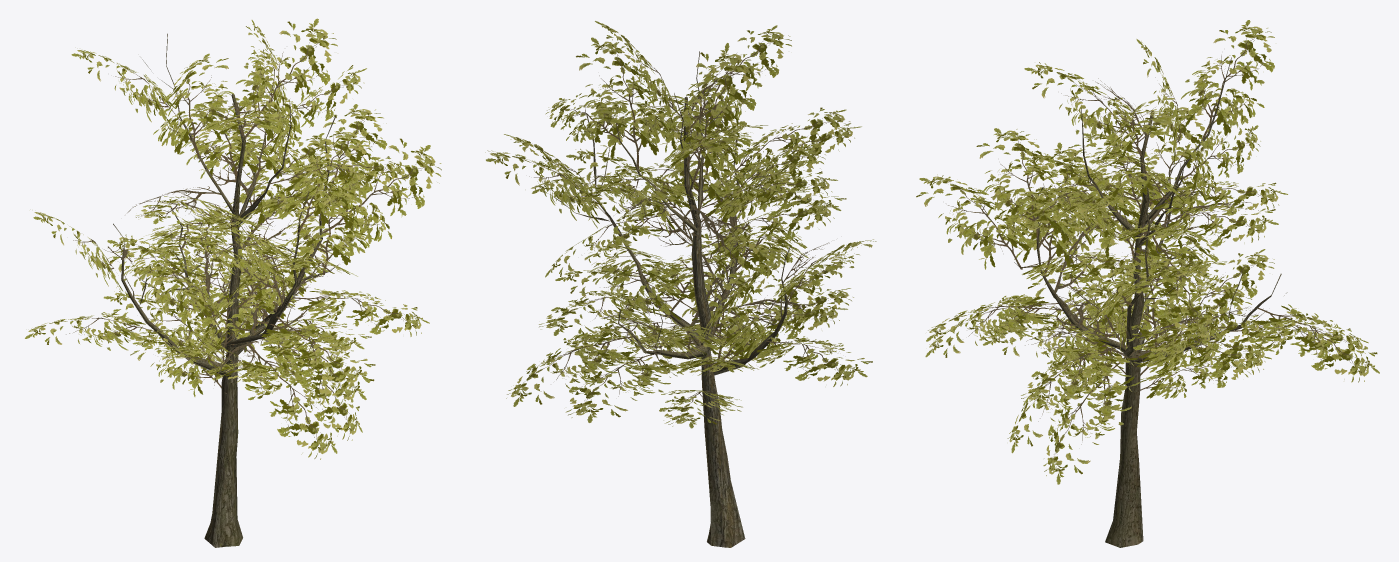
3 renders of one model, left to right at view 1: azimuth 30°, elevation 25°; view 2: azimuth 150°, elevation 25°; view 3: azimuth 270°, elevation 25°, orthographic. The views are drawn at different scales.
Visible parts, largest first — view 1: Treemedium; view 2: Treemedium; view 3: Treemedium.
Part boxes in pixels (x1,y1,x2,y2): Treemedium: [25, 18, 441, 547]; Treemedium: [485, 21, 876, 547]; Treemedium: [916, 20, 1379, 547].
Size of the model in its own units: 8.38 by 10 by 8.51.
Materials: 1 (1 with a texture image).
